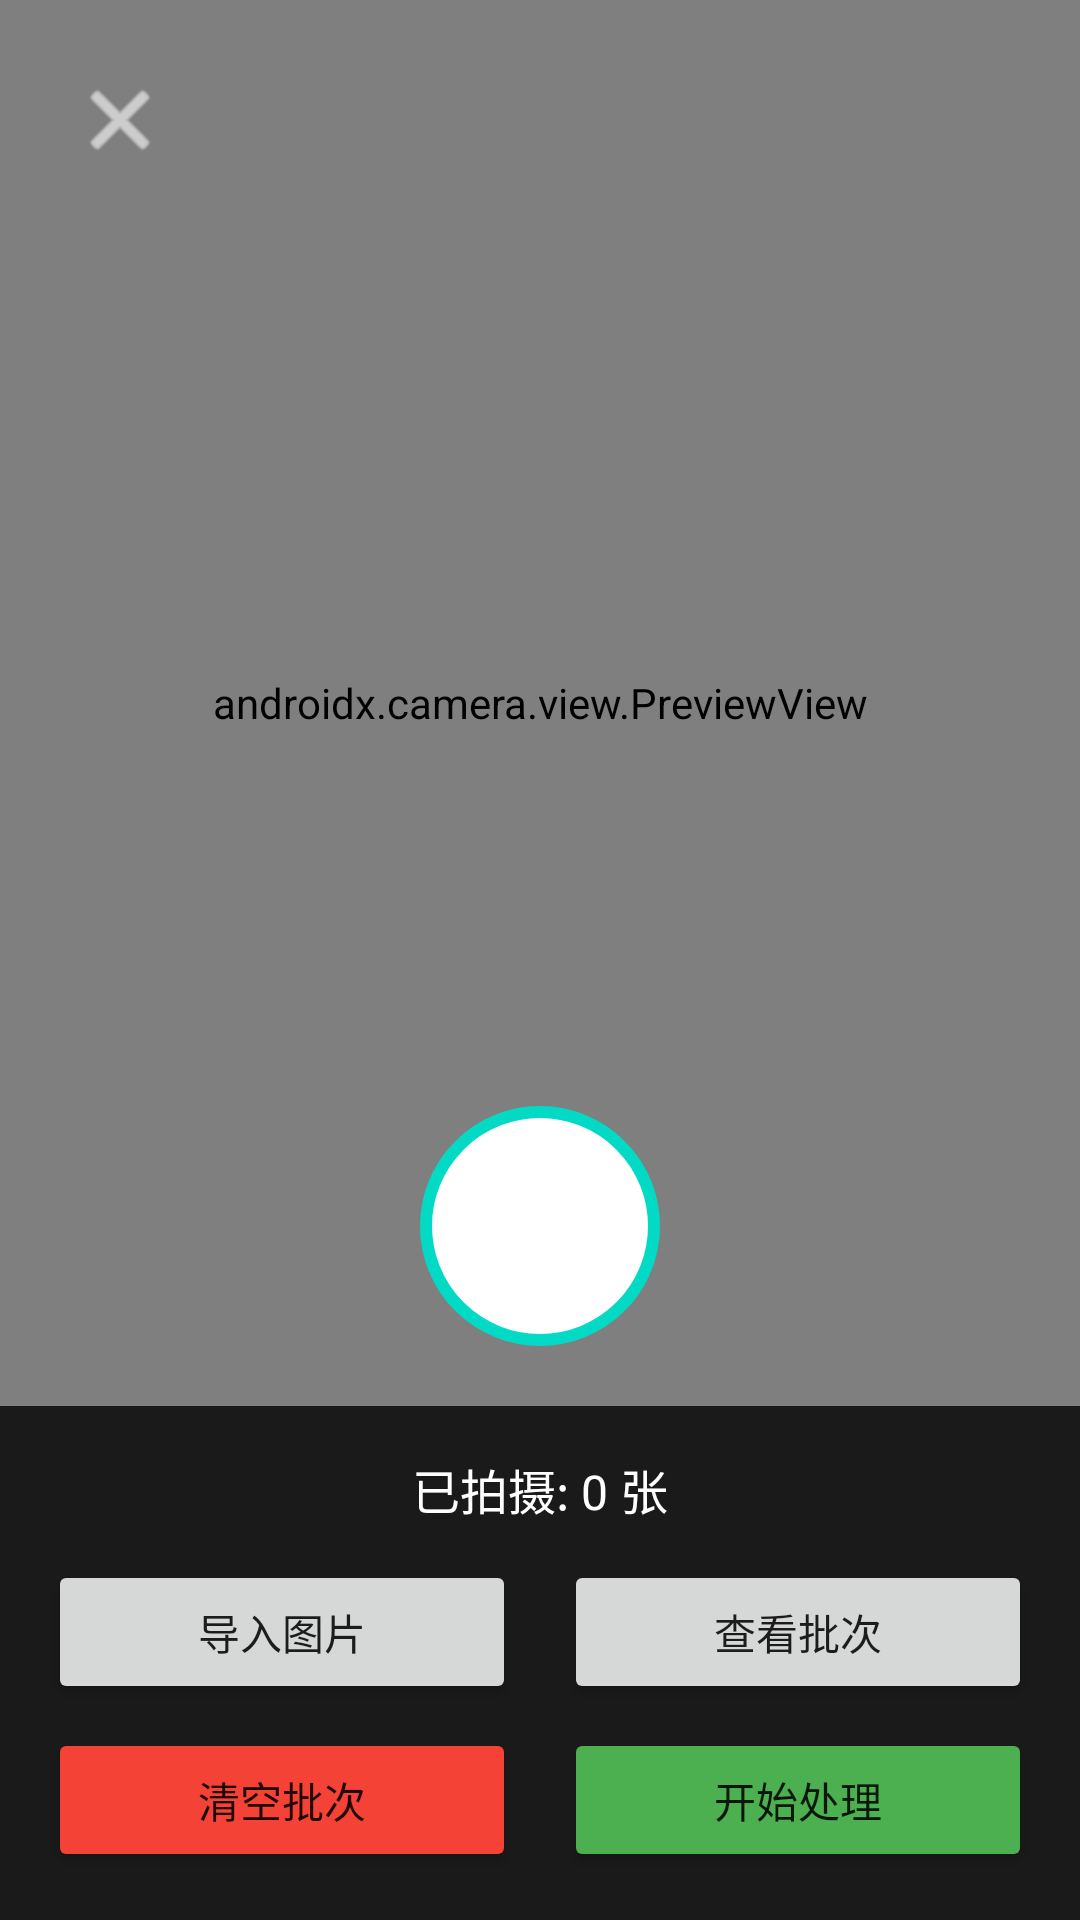

Icon bounding boxes for this 1080x1920 phone screenshot, format BBox(x1, y1, x2, y2):
返回: BBox(90, 90, 150, 150)
